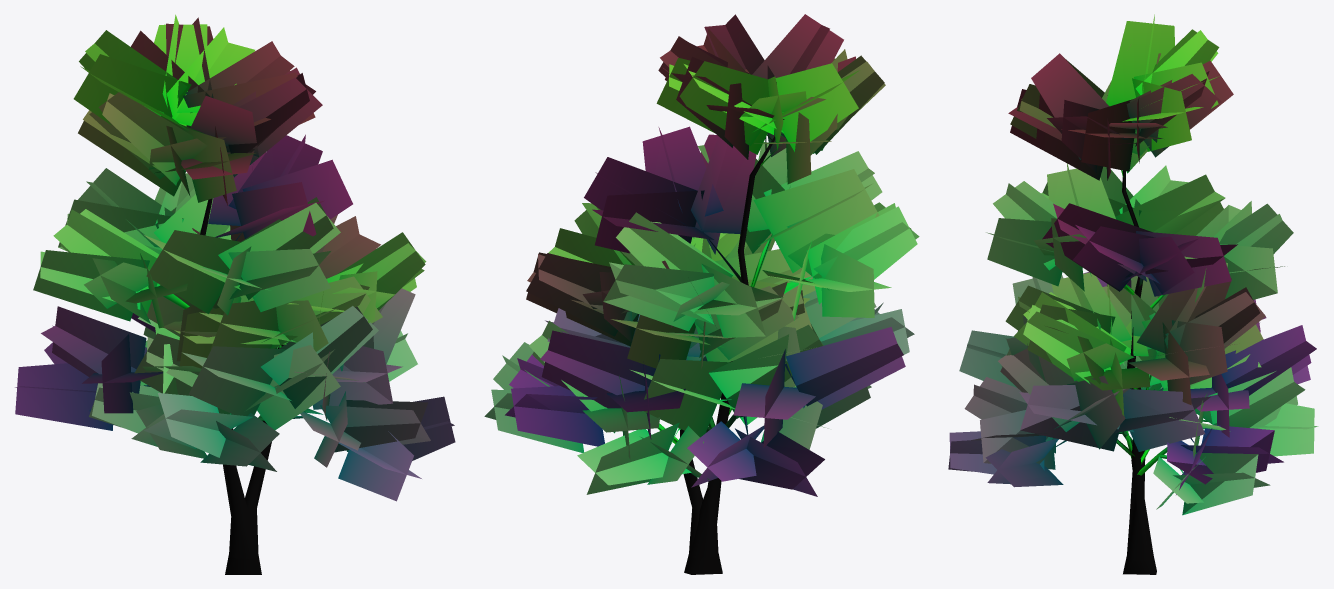
The model's file is SM_Mobile5_10.fbx.
The picture shows the model from 3 angles, left to right: view 1: azimuth 30°, elevation 25°; view 2: azimuth 150°, elevation 25°; view 3: azimuth 270°, elevation 25°; orthographic projection. The views are drawn at different scales.
Parts seen in each view (by area): view 1: _10; view 2: _10; view 3: _10.
Boxes of the visible parts, left/top/right/bottom form: _10: left=15, top=14, right=455, bottom=574; _10: left=484, top=14, right=919, bottom=574; _10: left=948, top=14, right=1318, bottom=574.
Size of the model in its own units: 1896 by 2590 by 1757.
